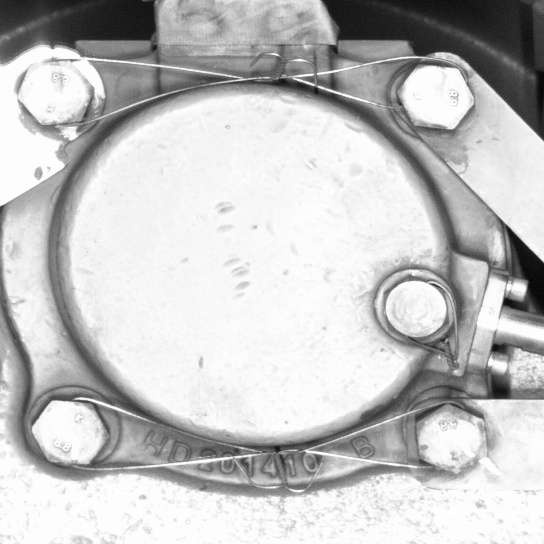IronWire: (22, 390, 496, 482), (10, 56, 481, 140)
Screw: (23, 391, 114, 475), (404, 396, 494, 480), (390, 54, 480, 136), (10, 56, 98, 133), (373, 273, 455, 345)
